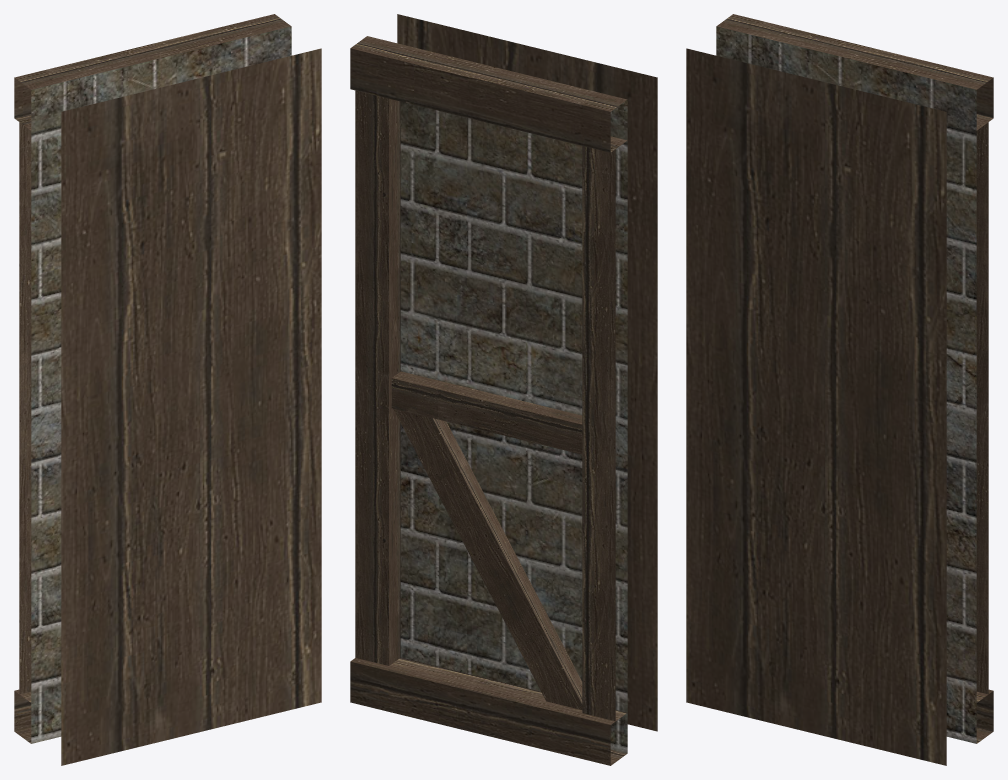
The model's file is ARC1010222.fbx.
3 renders of one model, left to right at view 1: azimuth 30°, elevation 25°; view 2: azimuth 150°, elevation 25°; view 3: azimuth 330°, elevation 25°, orthographic.
Visible parts, largest first — view 1: smARC1010222; view 2: smARC1010222; view 3: smARC1010222.
Part boxes in pixels (x1,y1,x2,y2): smARC1010222: (14, 14, 321, 765); smARC1010222: (350, 14, 657, 765); smARC1010222: (686, 14, 993, 765).
Size of the model in its own units: 112 by 268 by 34.9.
Materials: 1 (1 with a texture image).
